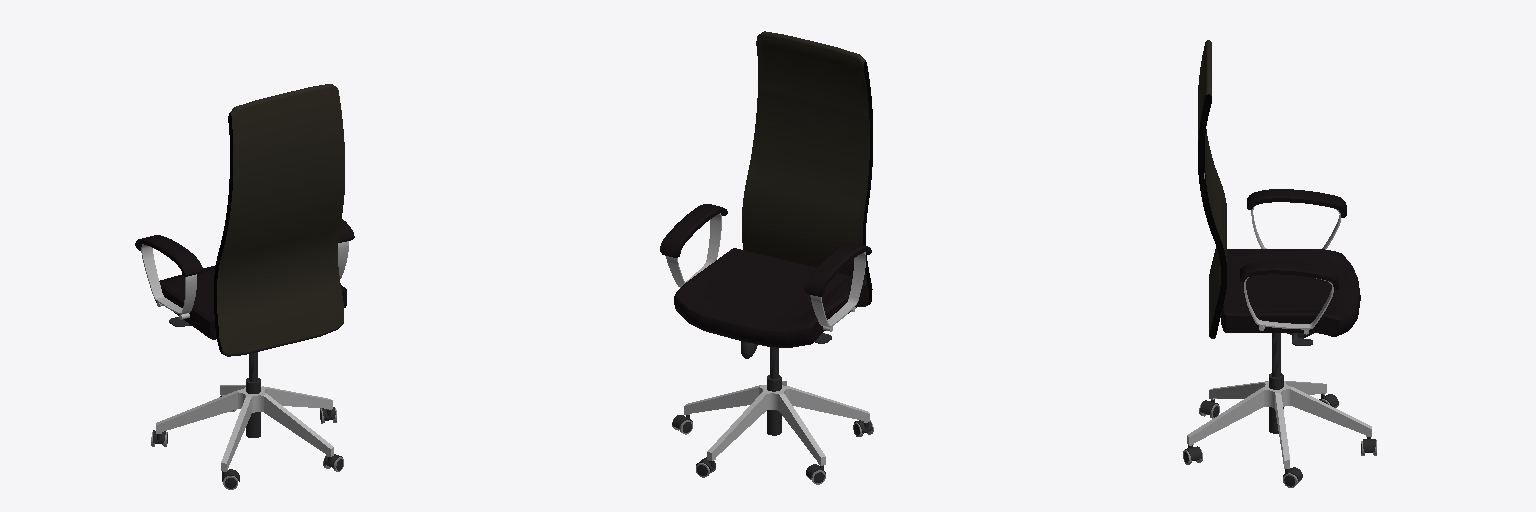
3 renders of one model, left to right at view 1: azimuth 30°, elevation 25°; view 2: azimuth 150°, elevation 25°; view 3: azimuth 270°, elevation 25°, orthographic.
Visible parts, largest first — view 1: Mesh1 Group1 Model, Mesh3 Group3 Model, Mesh6 Group6 Model, Mesh12 Group10 Armrest2 Model, Mesh13 Group11 Armrest2 Model, Mesh2 Group2 Model; view 2: Mesh1 Group1 Model, Mesh6 Group6 Model, Mesh3 Group3 Model, Mesh9 Group9 Armrest1 Model, Mesh13 Group11 Armrest2 Model, Mesh12 Group10 Armrest2 Model, Mesh8 Group8 Armrest1 Model, Mesh2 Group2 Model; view 3: Mesh6 Group6 Model, Mesh3 Group3 Model, Mesh1 Group1 Model, Mesh13 Group11 Armrest2 Model, Mesh9 Group9 Armrest1 Model, Mesh2 Group2 Model, Mesh8 Group8 Armrest1 Model.
Part boxes in pixels (x1,y1,x2,y2): Mesh1 Group1 Model: (214, 84, 344, 356); Mesh3 Group3 Model: (156, 385, 333, 471); Mesh6 Group6 Model: (155, 265, 346, 339); Mesh12 Group10 Armrest2 Model: (141, 244, 196, 314); Mesh13 Group11 Armrest2 Model: (135, 235, 202, 276); Mesh2 Group2 Model: (246, 352, 260, 437); Mesh1 Group1 Model: (742, 31, 872, 306); Mesh6 Group6 Model: (674, 248, 867, 347); Mesh3 Group3 Model: (684, 381, 869, 465); Mesh9 Group9 Armrest1 Model: (660, 204, 727, 257); Mesh13 Group11 Armrest2 Model: (804, 243, 871, 296); Mesh12 Group10 Armrest2 Model: (810, 252, 865, 327); Mesh8 Group8 Armrest1 Model: (666, 213, 721, 287); Mesh2 Group2 Model: (767, 347, 781, 435); Mesh6 Group6 Model: (1221, 249, 1360, 336); Mesh3 Group3 Model: (1187, 381, 1371, 468); Mesh1 Group1 Model: (1198, 40, 1226, 338); Mesh13 Group11 Armrest2 Model: (1247, 189, 1346, 217); Mesh9 Group9 Armrest1 Model: (1240, 261, 1338, 289); Mesh2 Group2 Model: (1269, 333, 1283, 433); Mesh8 Group8 Armrest1 Model: (1244, 277, 1333, 329).
Bounding box in the file's own units: 0.4542 × 0.9441 × 0.4359.